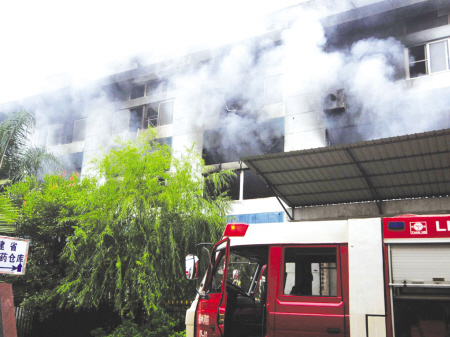smoke: (38, 20, 439, 136)
